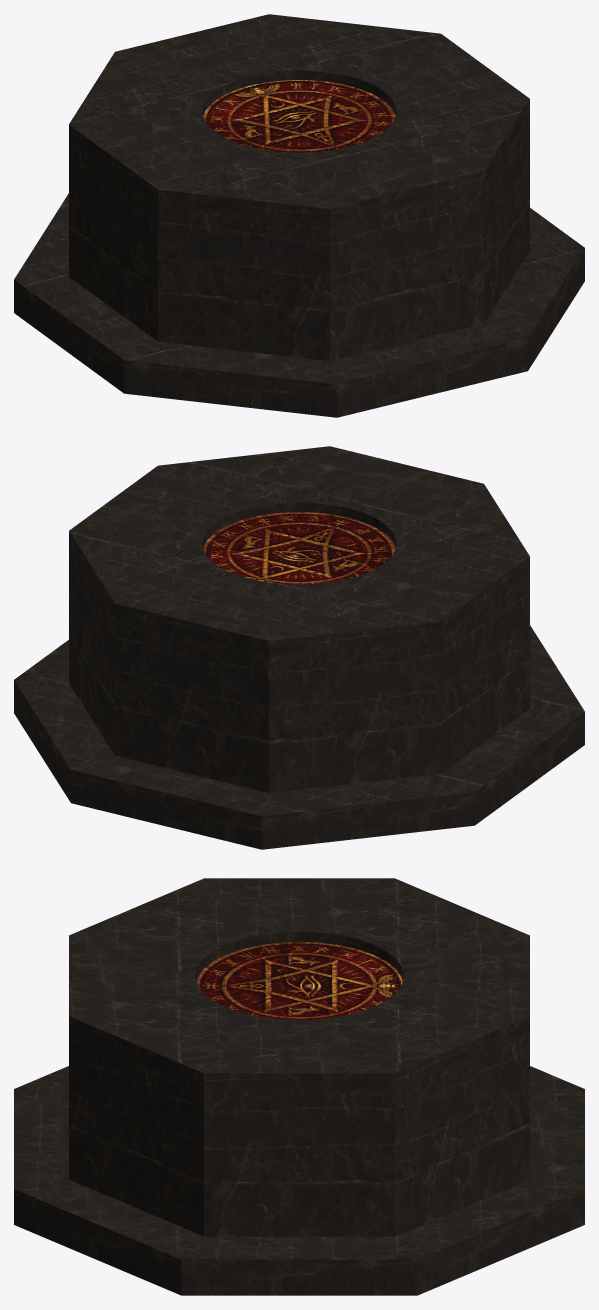
Rendered from ritual_altar.glb.
3 renders of one model, top to bottom at view 1: azimuth 30°, elevation 25°; view 2: azimuth 150°, elevation 25°; view 3: azimuth 270°, elevation 25°, orthographic. The views are drawn at different scales.
Visible parts, largest first — view 1: ritual_altar, altar_basin; view 2: ritual_altar, altar_basin; view 3: ritual_altar, altar_basin.
Part boxes in pixels (x1,y1,x2,y2): ritual_altar: (14,14,584,417); altar_basin: (203,80,395,152); ritual_altar: (14,446,584,849); altar_basin: (203,512,395,584); ritual_altar: (14,878,584,1295); altar_basin: (196,941,402,1019).
Size of the model in its own units: 2.6 by 1 by 2.6.
Materials: 2 (2 with a texture image).
